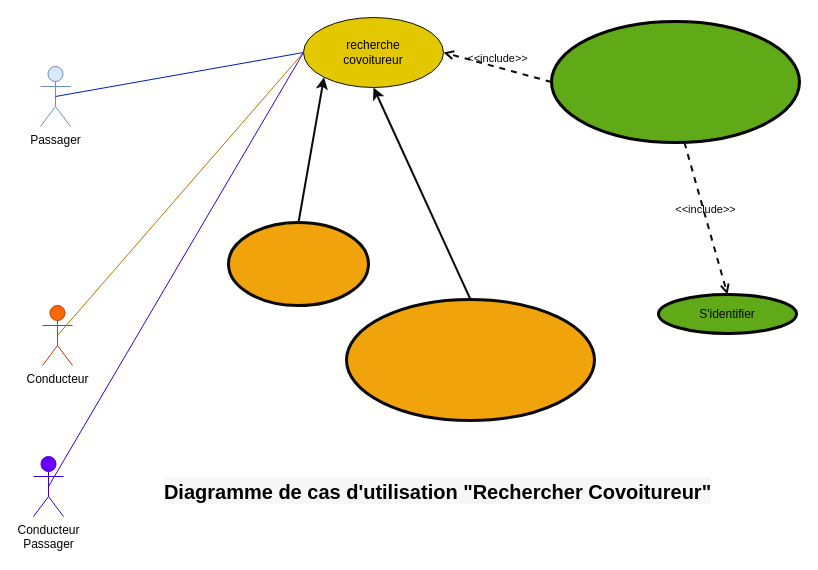
This 818x570 diagram has some shape labels left out. The shapes that lost their labels are listed below. From the top down, each one's box as (x1, y1, x2, y2) in pixels, then its label:
(550, 20, 800, 144): Passager : contacter conducteur Conducteur : contacter passager
(226, 220, 370, 306): recherche simple (ville)
(344, 298, 596, 422): recherche avancée (ville, nom, type covoitureur, autour de moi,sur mon trajet)
